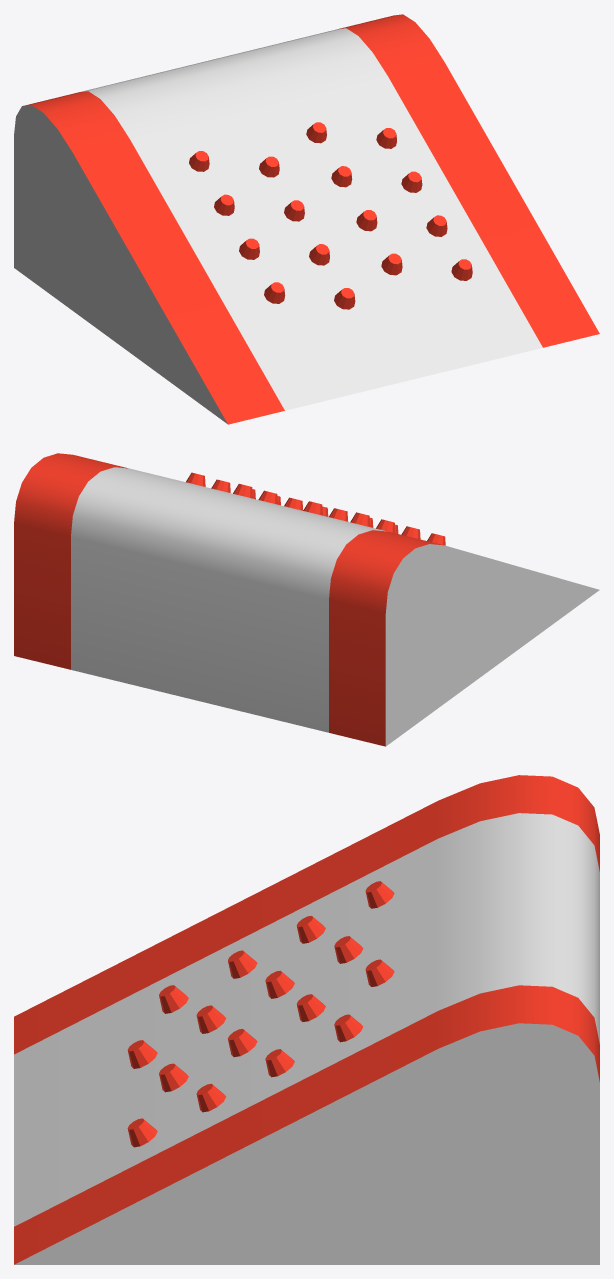
Rendered from Springboard Red Spike.fbx.
The picture shows the model from 3 angles, top to bottom: view 1: azimuth 30°, elevation 25°; view 2: azimuth 150°, elevation 25°; view 3: azimuth 270°, elevation 25°; orthographic projection. The views are drawn at different scales.
Visible parts, largest first — view 1: Springboard Red Spike; view 2: Springboard Red Spike; view 3: Springboard Red Spike.
Boxes of the visible parts, <box> form: Springboard Red Spike: <box>14,14,599,424</box>; Springboard Red Spike: <box>14,453,599,746</box>; Springboard Red Spike: <box>14,775,599,1264</box>.
Bounding box in the file's own units: 160 × 72.42 × 159.
